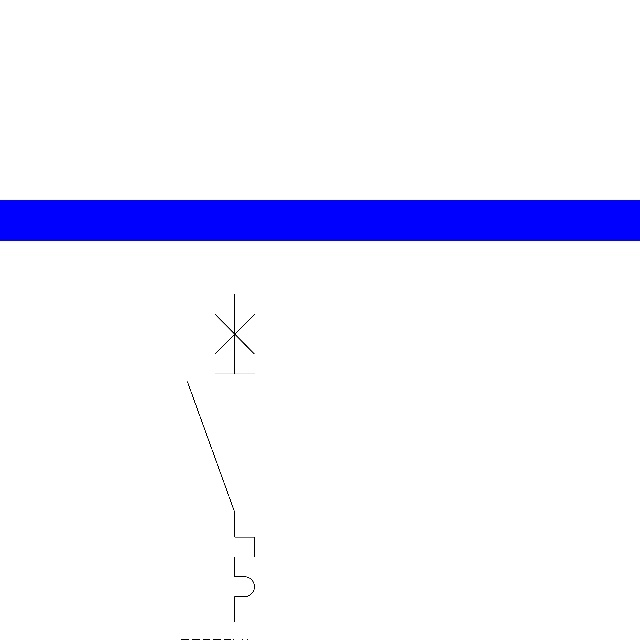interruptor_termomagnetico: (179, 286, 263, 630)
